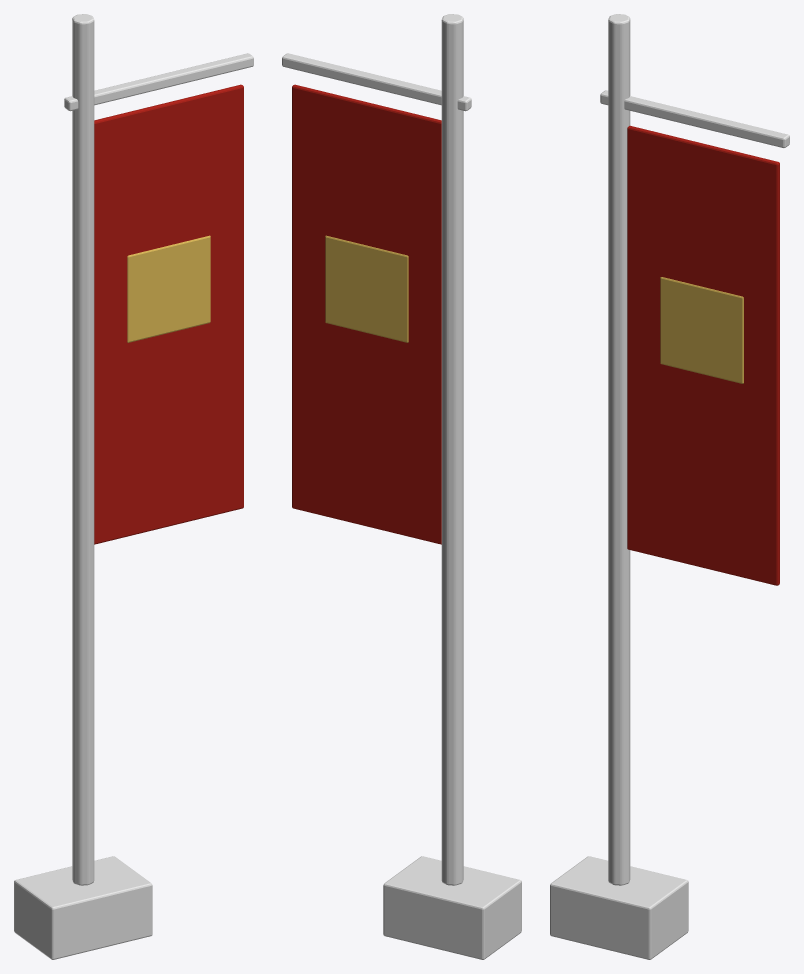
Rendered from china_banner.fbx.
3 views of the same model, side by side, from view 1: azimuth 30°, elevation 25°; view 2: azimuth 150°, elevation 25°; view 3: azimuth 330°, elevation 25° (orthographic).
Visible parts, largest first — view 1: china_banner; view 2: china_banner; view 3: china_banner.
Boxes of the visible parts, x1,y1,x2,y2 form: china_banner: (14, 14, 253, 959); china_banner: (282, 14, 521, 959); china_banner: (550, 14, 789, 959).
Bounding box in the file's own units: 1.3 × 5.2 × 0.4.
